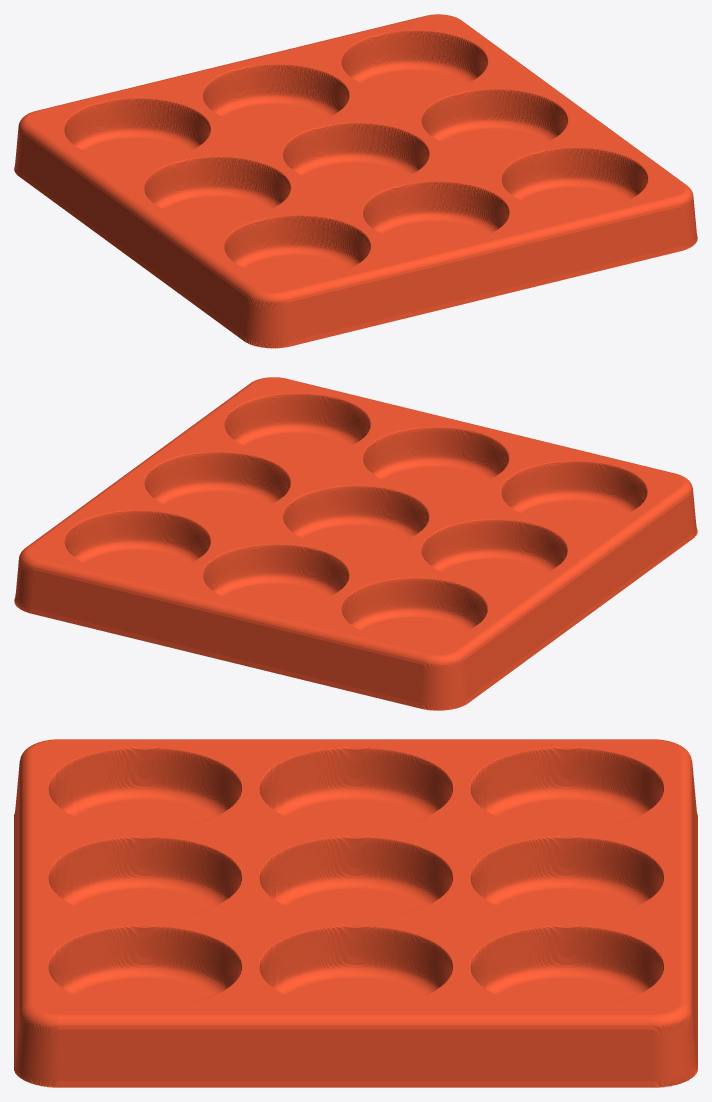
The model's file is mold.glb.
3 views of the same model, one above another, from view 1: azimuth 30°, elevation 25°; view 2: azimuth 150°, elevation 25°; view 3: azimuth 270°, elevation 25° (orthographic). The views are drawn at different scales.
Visible parts, largest first — view 1: geometry_0; view 2: geometry_0; view 3: geometry_0.
Boxes of the visible parts, <box> form: geometry_0: <box>14,14,697,348</box>; geometry_0: <box>14,377,697,710</box>; geometry_0: <box>14,739,697,1087</box>.
Size of the model in its own units: 0.1365 by 0.0145 by 0.1365.
